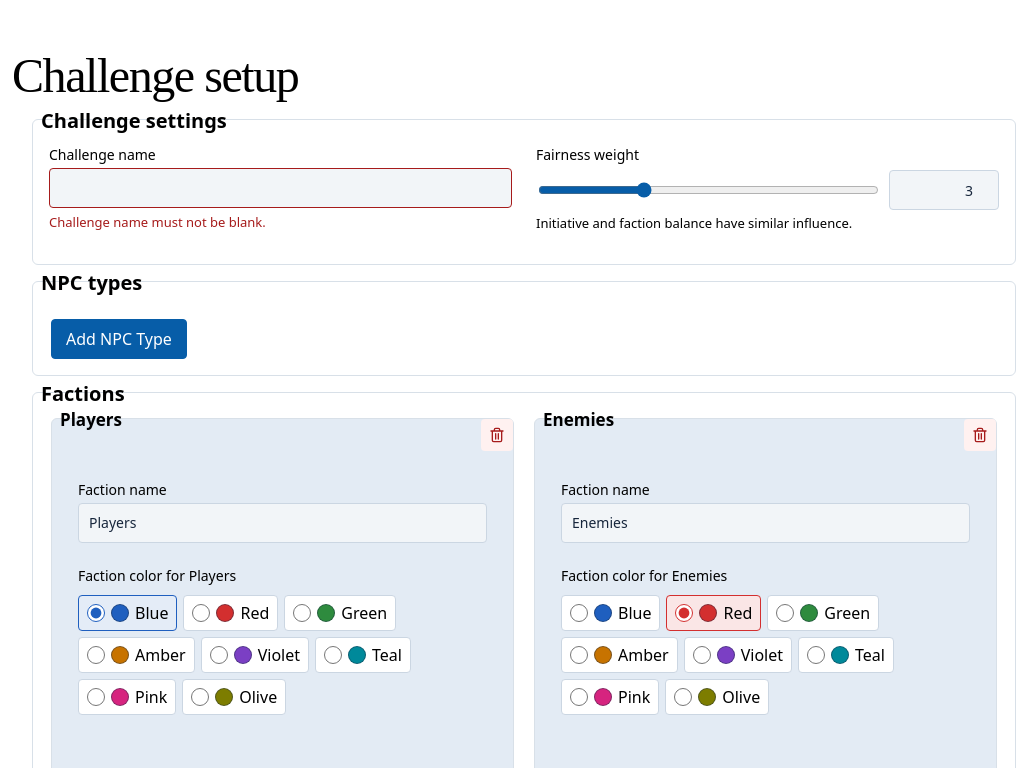
Test: new challenge setup › updates the visible fairness value as the slider moves
The width and height of the screenshot is (1036, 768).
Expected: the heading "Challenge setup" is shown, [12,49,298,102]
Set the slider named "Fairness weight slider" to "4.25": (684, 190) [538,170,879,210]
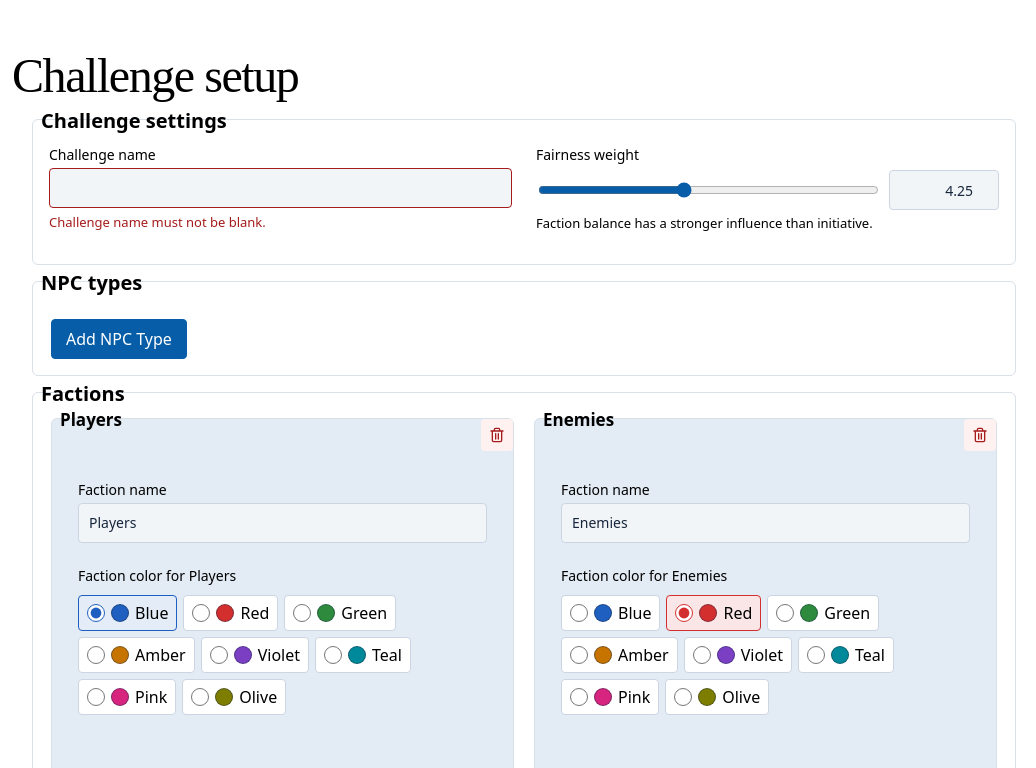
Now the number field named "Fairness weight value" holds "4.25", box [889,170,999,210]
